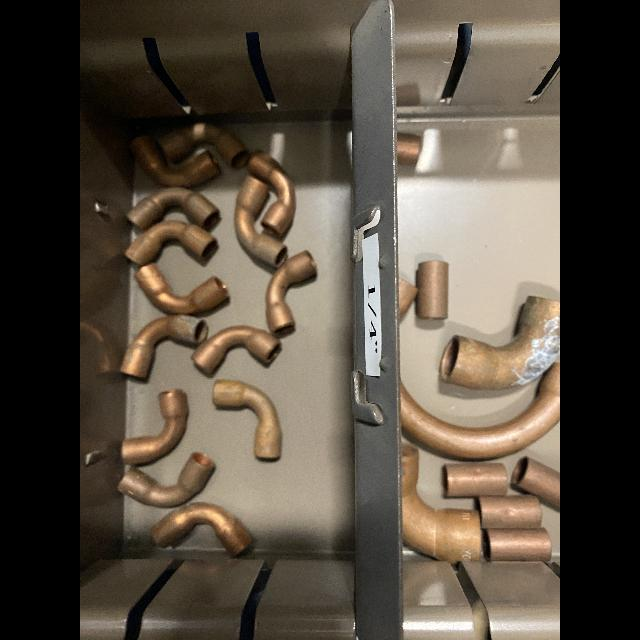Copper: (401, 363, 560, 460), (440, 296, 560, 390), (402, 441, 482, 564), (120, 315, 208, 378), (151, 503, 252, 557), (213, 380, 281, 460), (118, 453, 215, 507), (121, 389, 188, 464), (234, 174, 287, 268), (135, 263, 229, 314), (131, 136, 220, 187), (157, 123, 250, 169), (192, 326, 281, 374), (266, 250, 317, 333), (125, 221, 218, 266), (127, 187, 220, 231), (247, 152, 294, 237), (510, 458, 560, 510), (442, 463, 509, 497), (483, 528, 552, 561), (478, 495, 542, 529), (416, 260, 448, 319), (397, 133, 421, 166), (399, 279, 417, 317)
